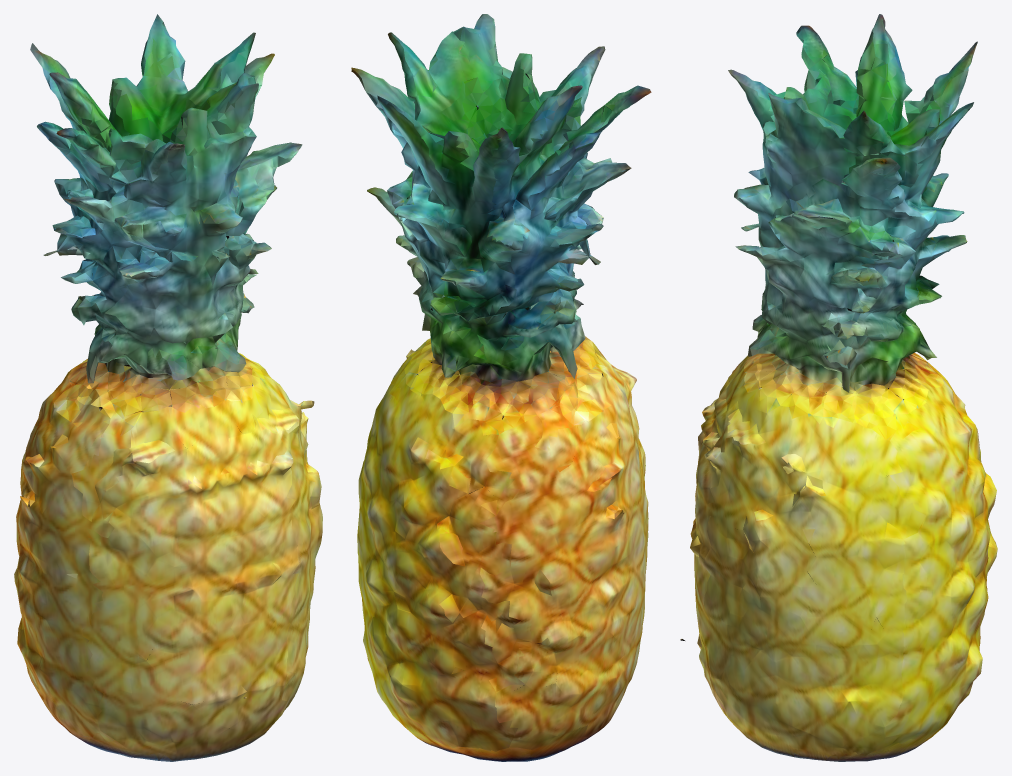
File: SPAR3D_result_20250628_013949.glb
3 renders of one model, left to right at view 1: azimuth 30°, elevation 25°; view 2: azimuth 150°, elevation 25°; view 3: azimuth 270°, elevation 25°, orthographic.
Parts seen in each view (by area): view 1: world; view 2: world; view 3: world.
Boxes of the visible parts, bbox=[...] form: world: bbox=[14, 14, 322, 761]; world: bbox=[351, 14, 651, 761]; world: bbox=[680, 14, 997, 761].
Size of the model in its own units: 0.4084 by 0.9997 by 0.429.
Materials: 1 (1 with a texture image).
